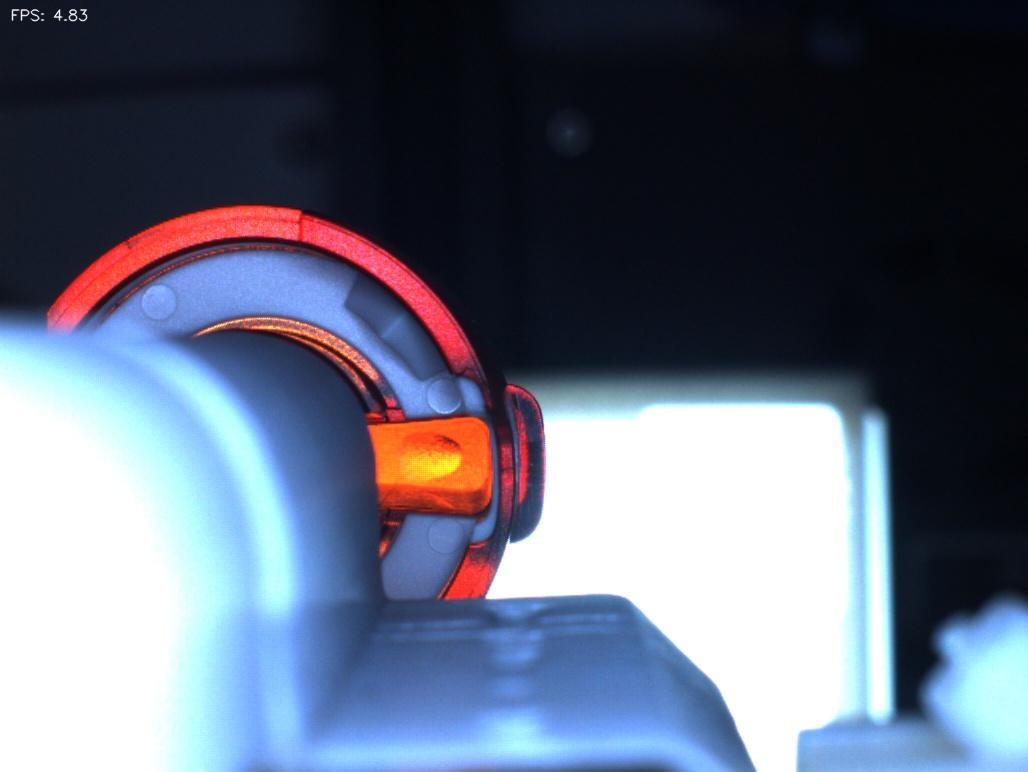Retassure: (387, 424, 477, 506)
